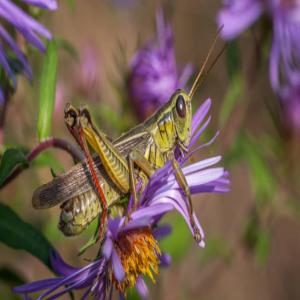locust: (33, 57, 212, 257)
